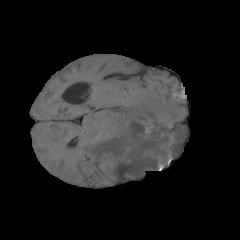glioma: (84, 90, 188, 181)
